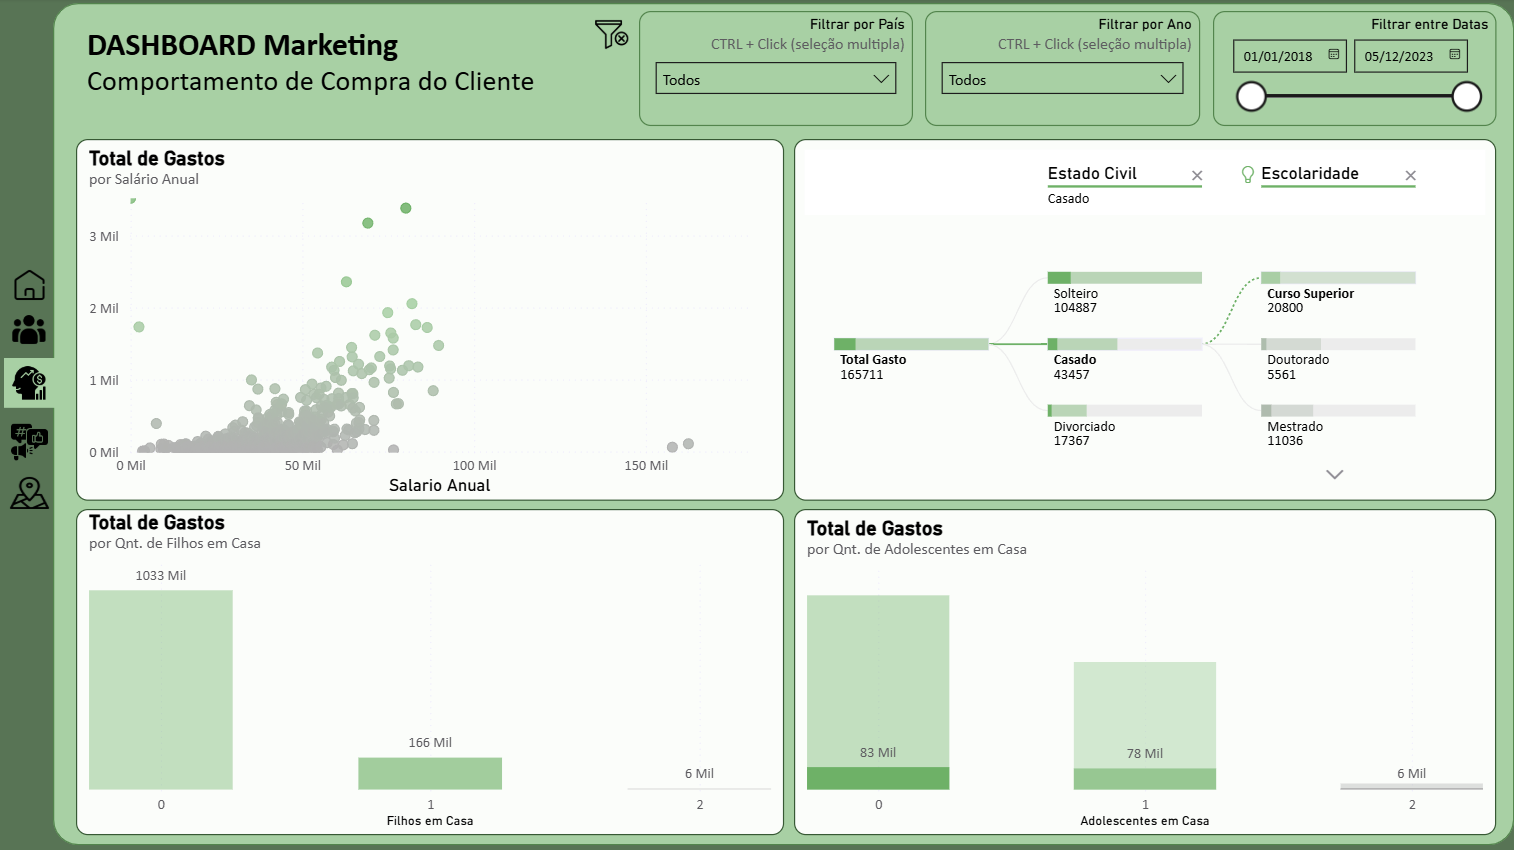

Layout of this report page (visuals, bound fields, positions):
{"tool":"powerbi","page":{"name":"Visão Comportamento","canvas":[1280,720],"ordinal":2},"visuals":[{"type":"group","id":"g1","title":"Grupo 1","box":[48.2,4.5,1231.8,710],"z":0},{"type":"shape","box":[48.2,4.5,1231.8,710],"z":0,"group":"g1"},{"type":"textbox","box":[71.7,17.6,390,73.6],"z":1000,"group":"g1"},{"type":"scatterChart","title":"Total de Gastos","fields":{"X":["Dados_Marketing.Salario Anual"],"Y":["Dados_Marketing.Total_Gasto"]},"box":[67.3,119.1,597.3,305.5],"z":1000},{"type":"slicer","title":"Filtrar por Ano","fields":{"Values":["Dados_Marketing.Data Cadastro.Variation.Hierarquia de datas.Ano"]},"box":[783.7,10.9,231.8,97.3],"z":2000,"group":"g1"},{"type":"clusteredColumnChart","title":"Total de Gastos","fields":{"Category":["Dados_Marketing.Filhos em Casa"],"Y":["Dados_Marketing.Total_Gasto"]},"box":[67.3,430.9,597.3,274.5],"z":2000},{"type":"slicer","title":"Filtrar por País","fields":{"Values":["Dados_Marketing.Pais"]},"box":[541.8,10.9,230.9,97.3],"z":3000,"group":"g1"},{"type":"image","box":[7,398.9,42.7,37.3],"z":3000,"group":"g3"},{"type":"clusteredColumnChart","title":"Total de Gastos","fields":{"Y":["Dados_Marketing.Total_Gasto"],"Category":["Dados_Marketing.Adolescentes em Casa"]},"box":[672.7,430.9,591.8,274.5],"z":3000},{"type":"slicer","title":"Filtrar entre Datas","fields":{"Values":["Dados_Marketing.Data Cadastro"]},"box":[1026.4,10.9,239.1,97.3],"z":4000,"group":"g1"},{"type":"decompositionTreeVisual","fields":{"Analyze":["Dados_Marketing.Total_Gasto"],"ExplainBy":["Dados_Marketing.Estado Civil","Dados_Marketing.Escolaridade"]},"box":[672.7,119.1,591.8,305.5],"z":4000},{"type":"image","box":[7,260.7,42.7,38.2],"z":4000,"group":"g3"},{"type":"group","id":"g2","title":"Grupo 5","box":[7,223.6,42.7,212.7],"z":5000},{"type":"group","id":"g3","title":"Grupo 2","box":[7,260.7,42.7,175.5],"z":5000,"group":"g2"},{"type":"image","box":[7,303.4,42.7,41.8],"z":5000,"group":"g3"},{"type":"image","box":[498.9,11.9,39.8,37.8],"z":6000},{"type":"image","box":[7,223.6,42.6,37.2],"z":6000,"group":"g2"},{"type":"image","box":[7,349.8,42.7,48.2],"z":6000,"group":"g3"}]}

Visuals, with their boxes in screenshot pixels (x1, y1, x2, y2):
"Grupo 1" group: bbox=[52, 5, 1489, 833]
shape: bbox=[52, 5, 1489, 833]
textbox: bbox=[80, 21, 535, 106]
"Total de Gastos" scatterChart: bbox=[75, 139, 771, 495]
"Filtrar por Ano" slicer: bbox=[910, 13, 1181, 126]
"Total de Gastos" clusteredColumnChart: bbox=[75, 503, 771, 823]
"Filtrar por País" slicer: bbox=[628, 13, 897, 126]
image: bbox=[4, 465, 54, 509]
"Total de Gastos" clusteredColumnChart: bbox=[781, 503, 1471, 823]
"Filtrar entre Datas" slicer: bbox=[1193, 13, 1472, 126]
decompositionTreeVisual - Dados_Marketing.Total_Gasto x Dados_Marketing.Estado Civil: bbox=[781, 139, 1471, 495]
image: bbox=[4, 304, 54, 349]
"Grupo 5" group: bbox=[4, 261, 54, 509]
"Grupo 2" group: bbox=[4, 304, 54, 509]
image: bbox=[4, 354, 54, 403]
image: bbox=[578, 14, 624, 58]
image: bbox=[4, 261, 54, 304]
image: bbox=[4, 408, 54, 464]
